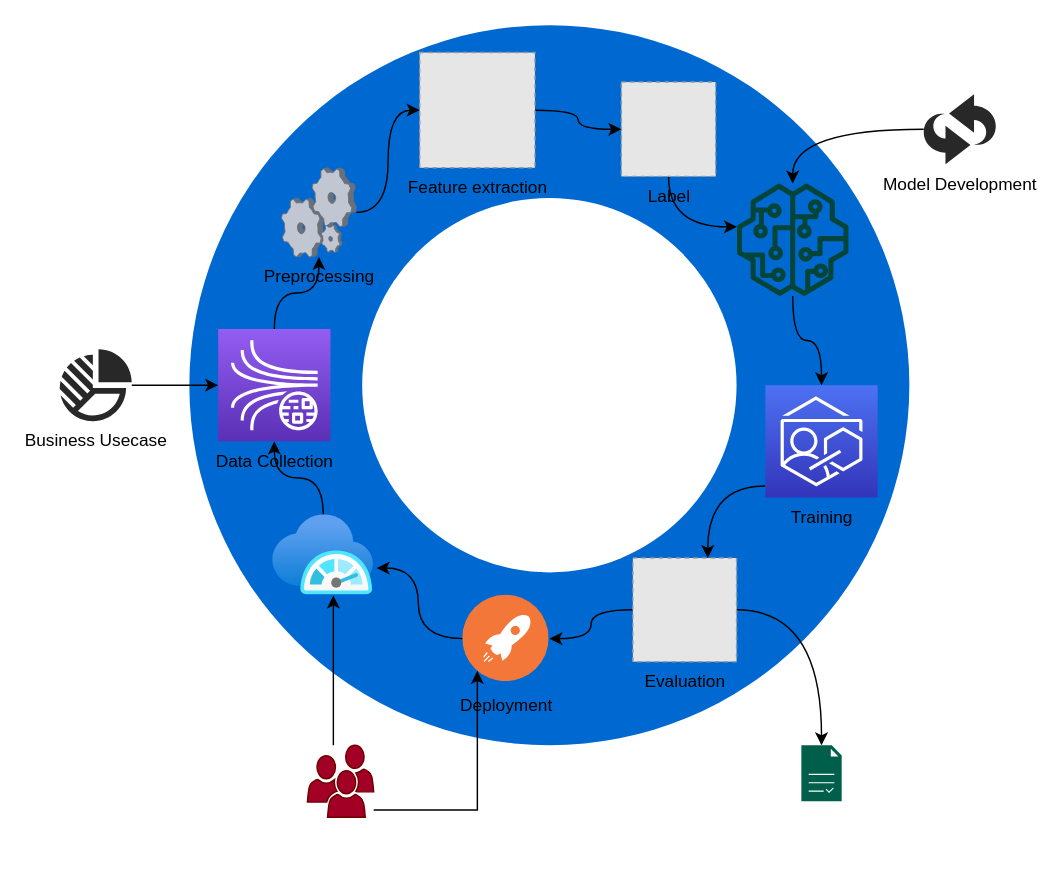
Some shapes in this 1061 by 876 pixel diagram are drawn without their labels. Grey dashed boxes stand in for pictures. Each missing label, with the centre of its shape:
Full Stack Machine Learning: (548,384)
Model: (792,239)
Monitor: (322,554)
Report: (821,772)
Users: (340,780)
